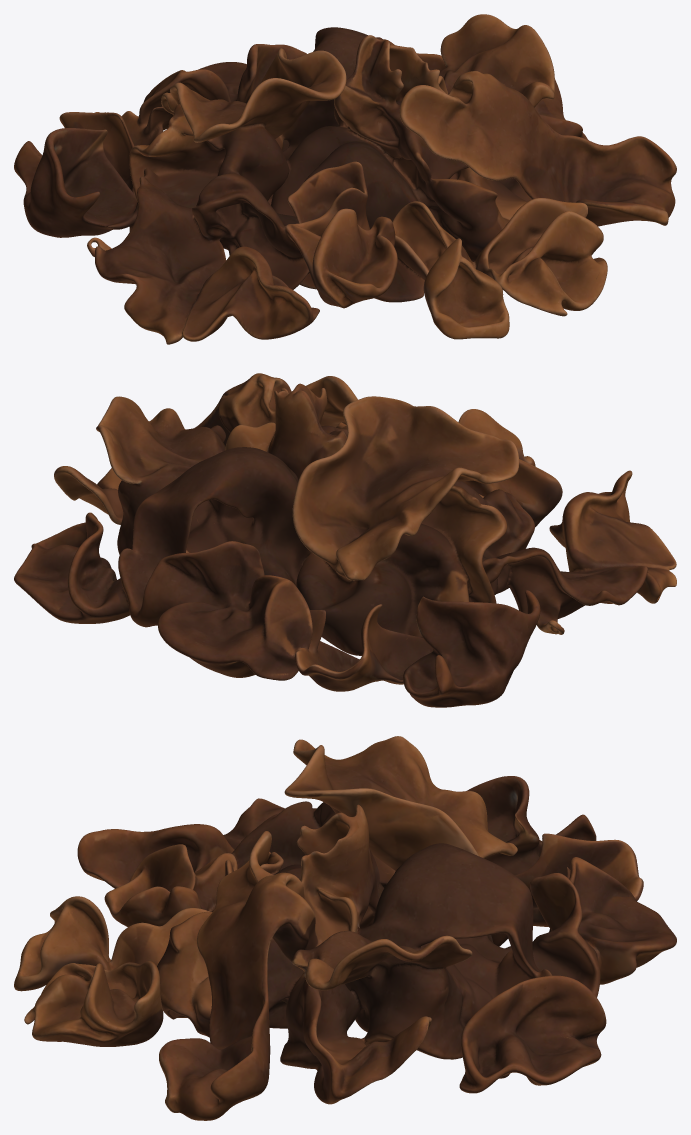
File: wood_ear_mushrooms.fbx
3 renders of one model, top to bottom at view 1: azimuth 30°, elevation 25°; view 2: azimuth 150°, elevation 25°; view 3: azimuth 270°, elevation 25°, orthographic. The views are drawn at different scales.
Parts seen in each view (by area): view 1: Mesh_0; view 2: Mesh_0; view 3: Mesh_0.
Part boxes in pixels (bbox=[...]): Mesh_0: bbox=[14, 14, 676, 344]; Mesh_0: bbox=[14, 373, 676, 707]; Mesh_0: bbox=[14, 736, 676, 1120].
Size of the model in its own units: 190 by 64.06 by 185.
Materials: 1 (1 with a texture image).
